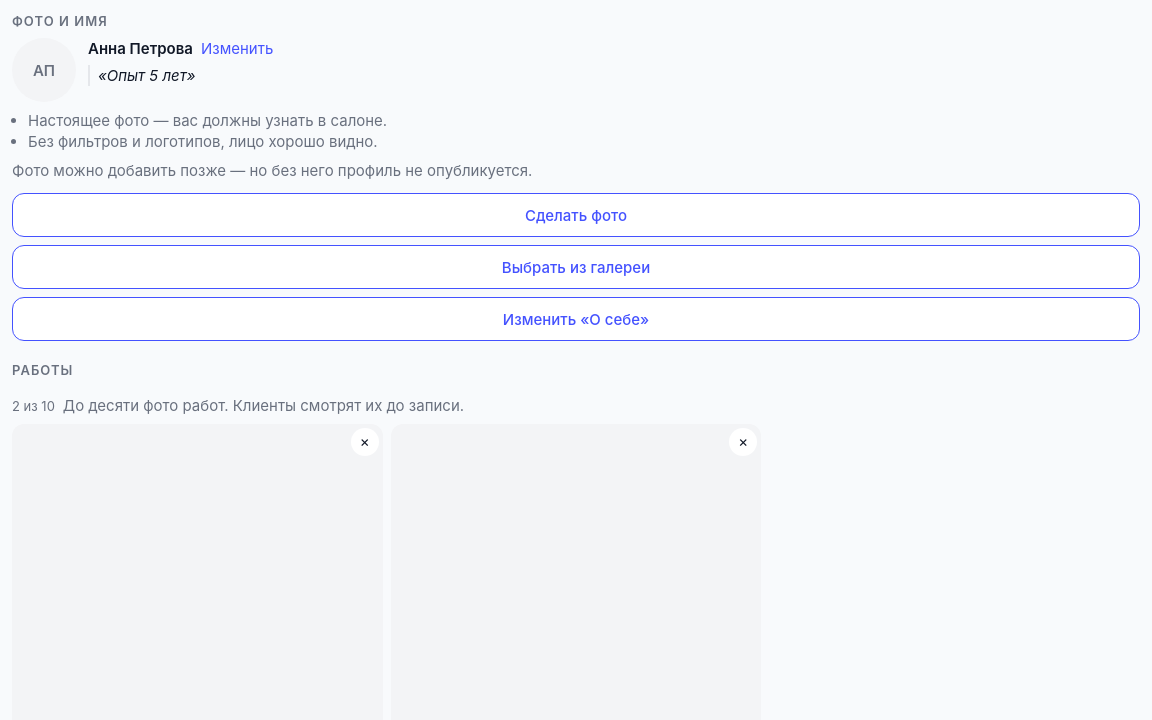
Test: 6.1 — лимиты из контракта, имя с «Изменить», подсказки › N1: имя короче display_name_min — отказ без запроса; длиннее — PATCH display_name
Click the button "Изменить": (237, 49) [201, 38, 273, 59]
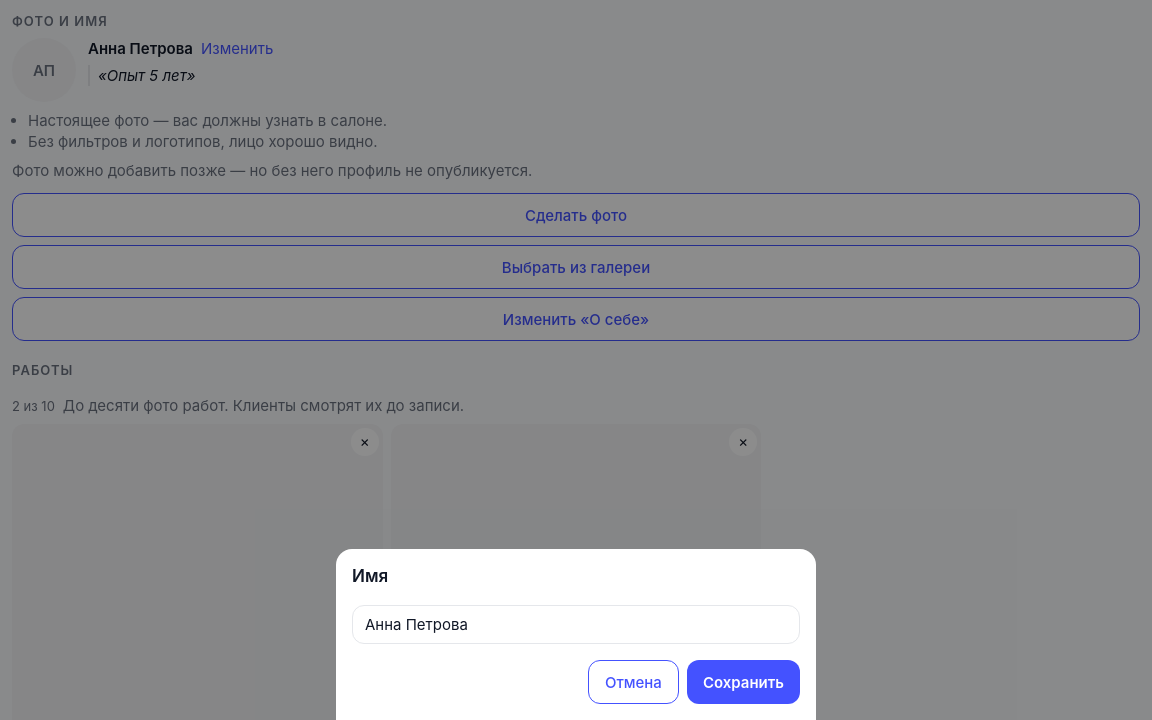
Replace the text in the field named "Имя" with "А": (576, 624) [352, 605, 800, 644]
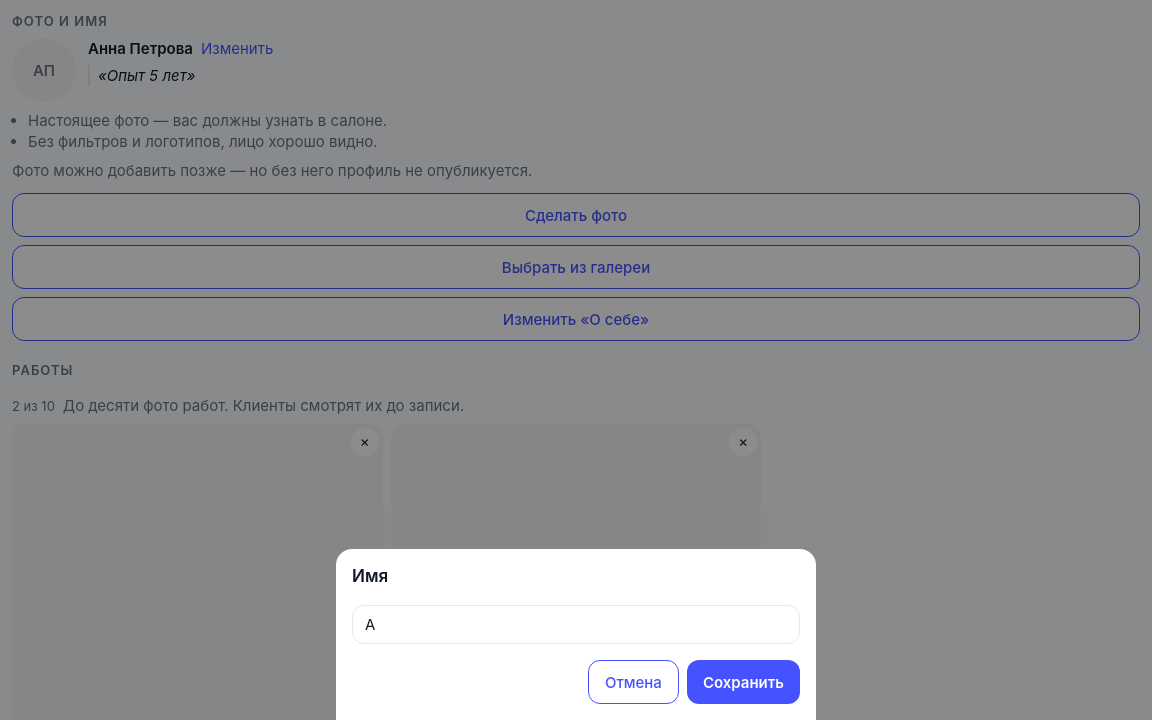
Click the button "Сохранить": (743, 682) [687, 660, 800, 704]
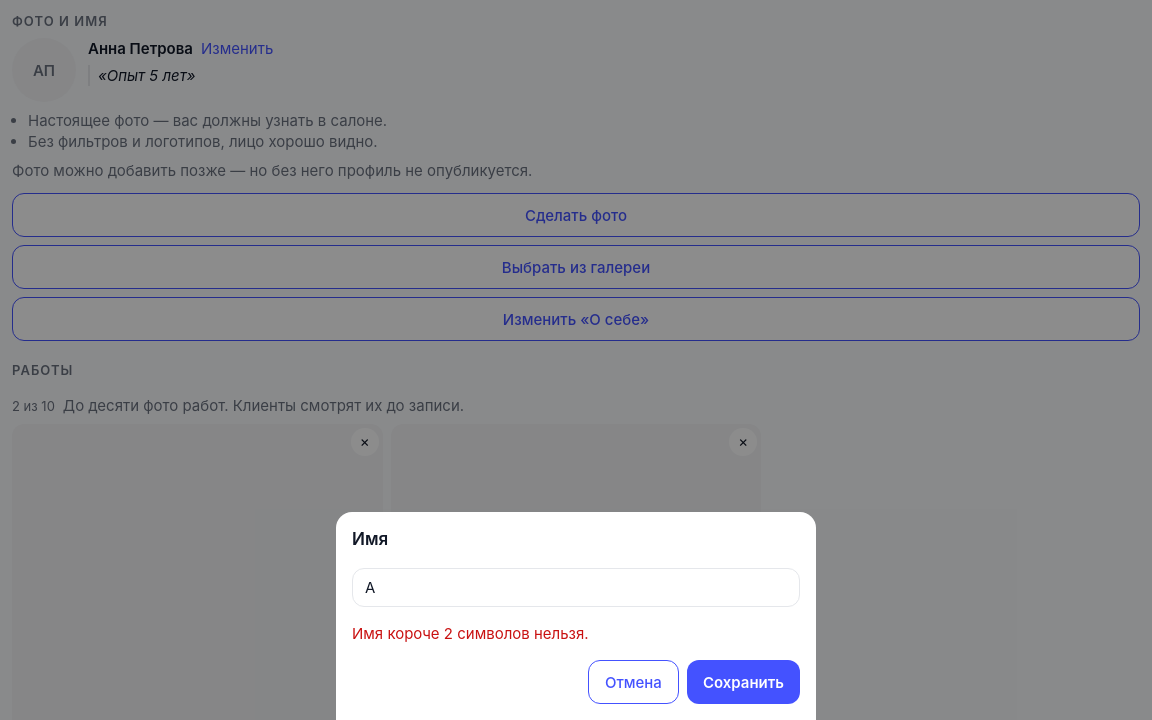
Expected: the message shows "2", [352, 624, 589, 643]
Replace the text in the field named "Имя" with "Аня": (576, 588) [352, 568, 800, 607]
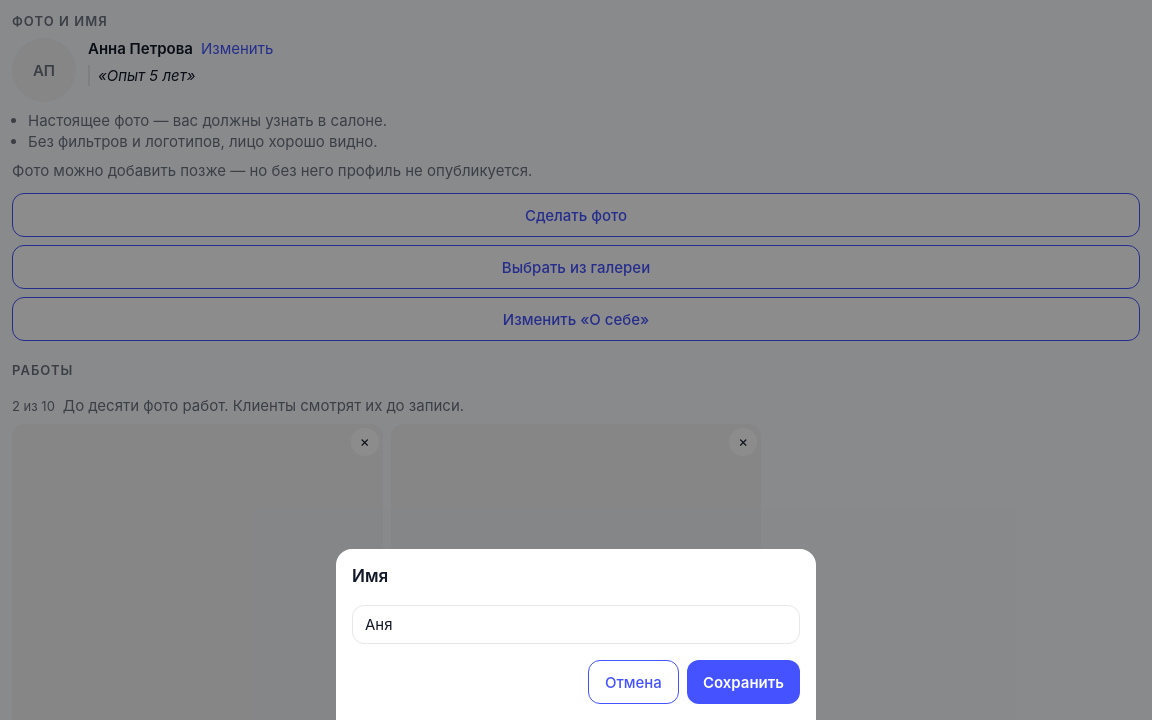
Click the button "Сохранить": (743, 682) [687, 660, 800, 704]
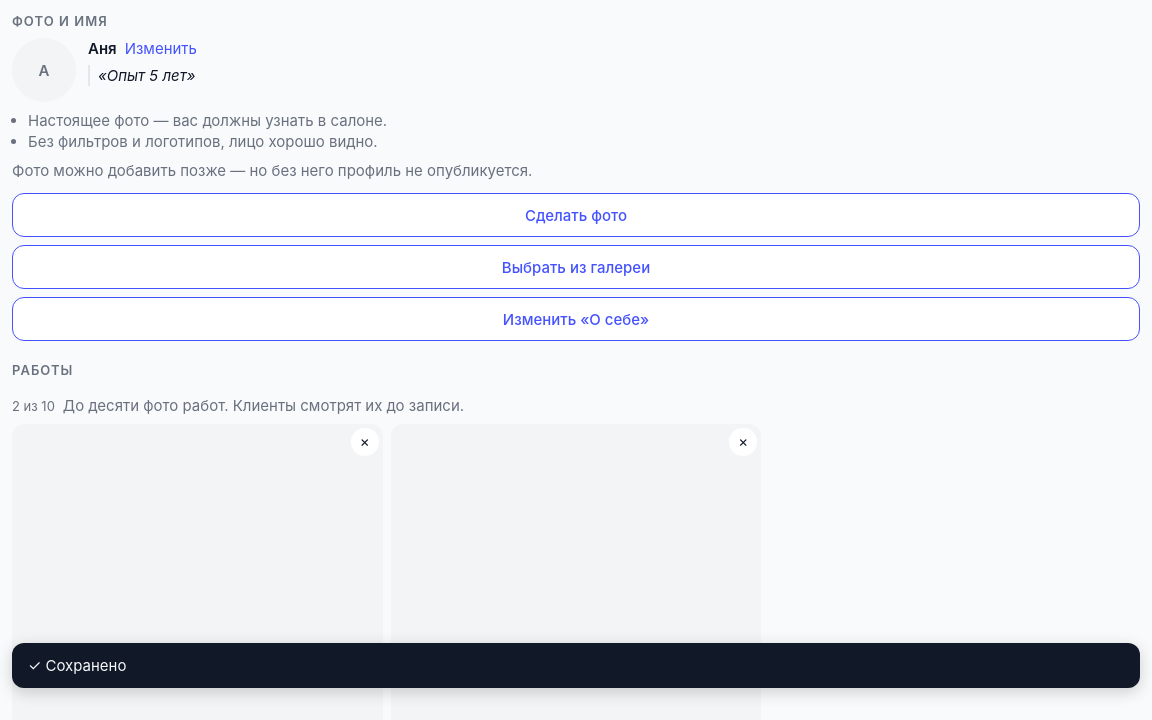
Expected: the text "Аня" is shown, [88, 38, 117, 59]
